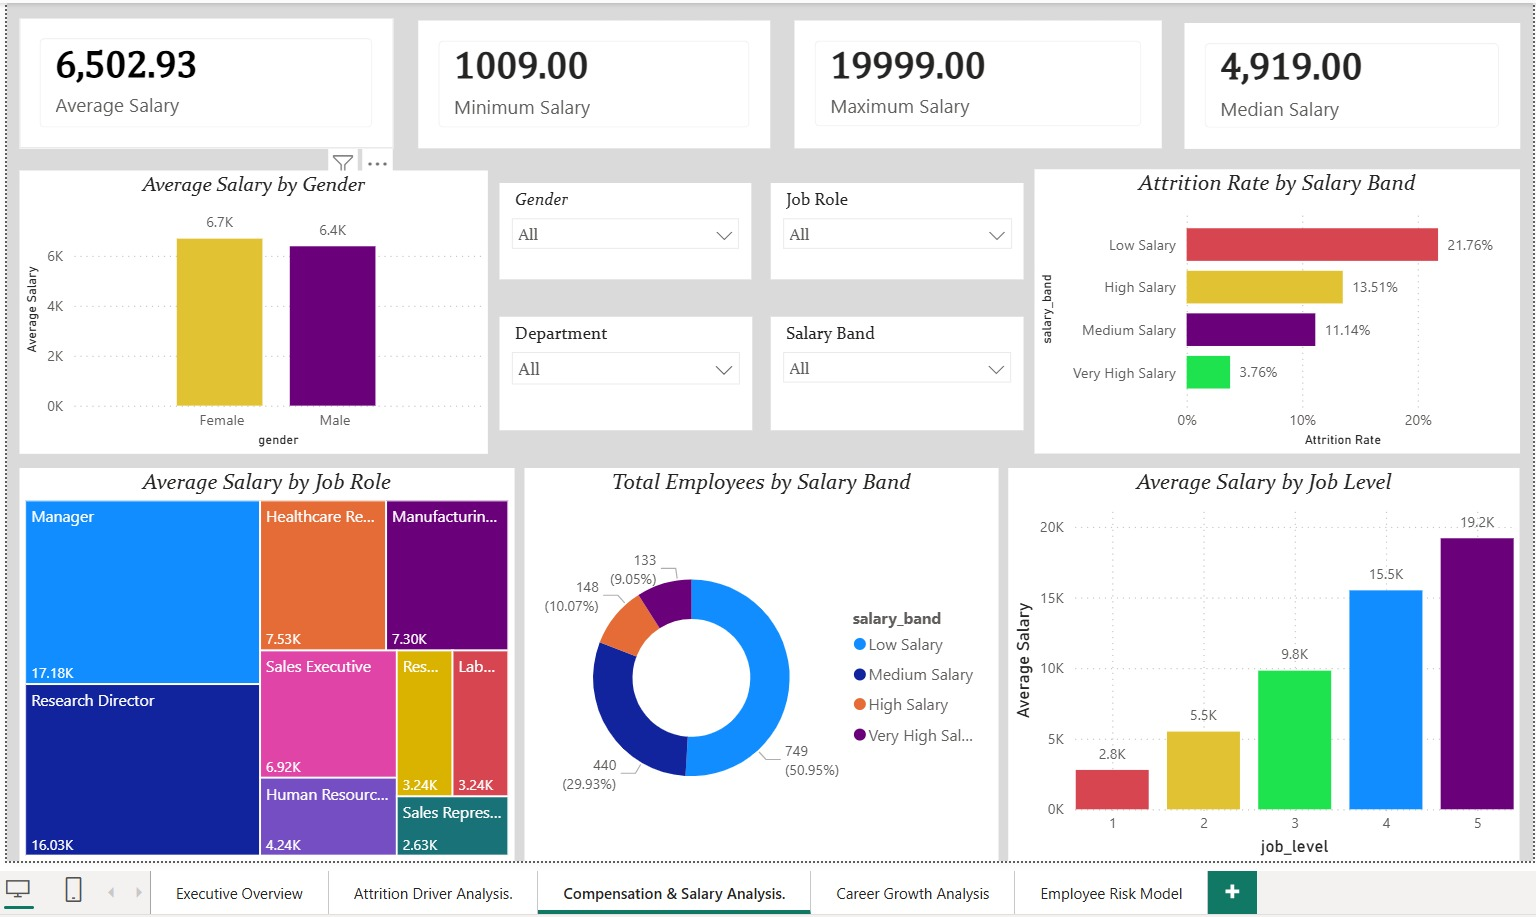

The dashboard page shown, as its layout file describes it:
{"tool":"powerbi","page":{"name":"Compensation & Salary Analysis.","canvas":[1280,720],"ordinal":2},"visuals":[{"type":"cardVisual","fields":{"Data":["public employees.Average Salary"]},"box":[10.5,12.8,314,109.3],"z":0},{"type":"cardVisual","fields":{"Data":["public employee_attrition_risk.Minimum Salary"]},"box":[344.8,14.7,295.4,107.2],"z":1000},{"type":"cardVisual","fields":{"Data":["public employee_attrition_risk.Maximum Salary"]},"box":[660.5,15.1,308.1,107],"z":2000},{"type":"cardVisual","fields":{"Data":["public employee_attrition_risk.Median Salary"]},"box":[987.2,16.3,281.4,105.8],"z":3000},{"type":"treemap","title":"Average Salary by Job Role","fields":{"Group":["public employees.job_role"],"Values":["public employees.Average Salary"]},"box":[10.5,389.5,415.1,330.2],"z":4000},{"type":"clusteredBarChart","title":"Attrition Rate by Salary Band","fields":{"Category":["public employees.salary_band"],"Y":["public employees.Attrition Rate"]},"box":[861.6,139.5,407,238.4],"z":5000},{"type":"donutChart","title":"Total Employees by Salary Band","fields":{"Category":["public employees.salary_band"],"Y":["public employees.Total Employees"]},"box":[434.1,390,397.3,330],"z":6000},{"type":"clusteredColumnChart","title":"Average Salary by Gender","fields":{"Category":["public employees.gender"],"Y":["public employees.Average Salary"]},"box":[10.5,140.7,393,237.2],"z":7000},{"type":"clusteredColumnChart","title":"Average Salary by Job Level","fields":{"Category":["public employees.job_level"],"Y":["public employees.Average Salary"]},"box":[839.5,389.5,429.1,330.2],"z":8000},{"type":"slicer","fields":{"Values":["public employees.department"]},"box":[412.8,262.8,211.6,95.3],"z":9000},{"type":"slicer","fields":{"Values":["public employees.gender"]},"box":[413.1,151.3,210.9,80.6],"z":10000},{"type":"slicer","fields":{"Values":["public employees.job_role"]},"box":[640.1,151.3,212.1,80.6],"z":11000},{"type":"slicer","fields":{"Values":["public employees.salary_band"]},"box":[640.7,262.8,211.6,95.3],"z":12000}]}

Visuals, with their boxes on the page's 1280x720 design canvas (x1, y1, x2, y2). These are canvas units, not pixel positions in the 1536x917 screenshot, which may show the page scaled, cropped or inside an application window:
cardVisual - public employees.Average Salary: 10,13,324,122
cardVisual - public employee_attrition_risk.Minimum Salary: 345,15,640,122
cardVisual - public employee_attrition_risk.Maximum Salary: 660,15,969,122
cardVisual - public employee_attrition_risk.Median Salary: 987,16,1269,122
"Average Salary by Job Role" treemap: 10,390,426,720
"Attrition Rate by Salary Band" clusteredBarChart: 862,140,1269,378
"Total Employees by Salary Band" donutChart: 434,390,831,720
"Average Salary by Gender" clusteredColumnChart: 10,141,404,378
"Average Salary by Job Level" clusteredColumnChart: 840,390,1269,720
slicer - public employees.department: 413,263,624,358
slicer - public employees.gender: 413,151,624,232
slicer - public employees.job_role: 640,151,852,232
slicer - public employees.salary_band: 641,263,852,358
